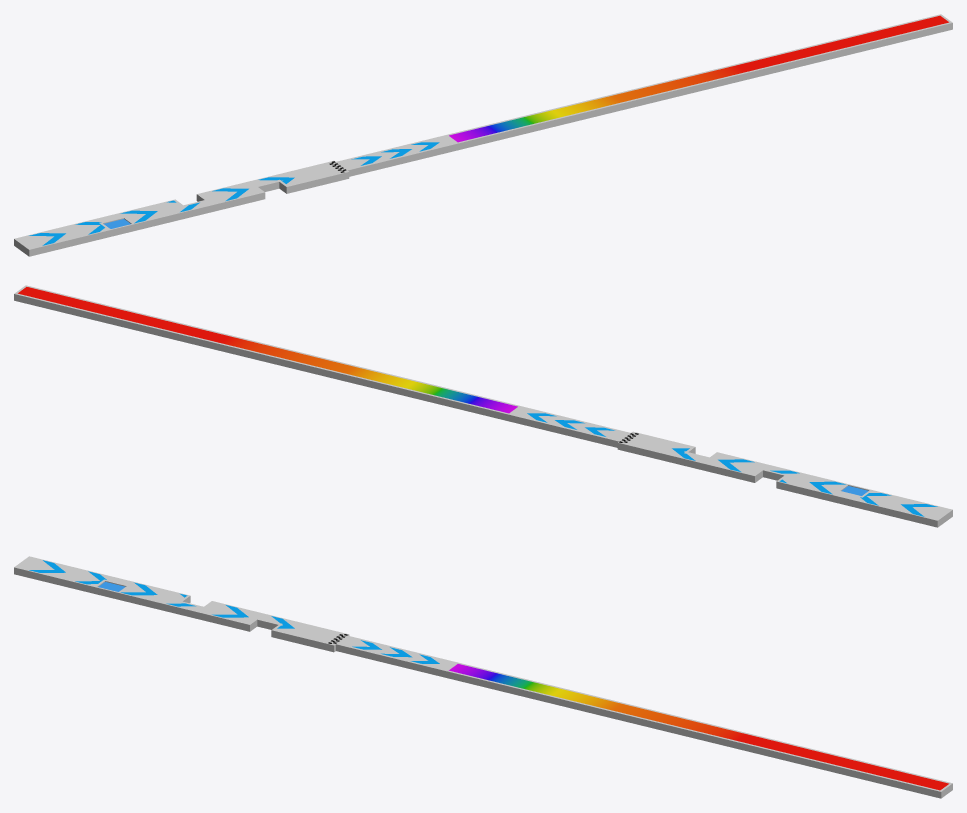
The model's file is bridgeone.fbx.
3 views of the same model, one above another, from view 1: azimuth 30°, elevation 25°; view 2: azimuth 150°, elevation 25°; view 3: azimuth 330°, elevation 25° (orthographic).
Visible parts, largest first — view 1: Cube; view 2: Cube; view 3: Cube.
Part boxes in pixels (x1,y1,x2,y2): Cube: [14, 14, 952, 256]; Cube: [14, 285, 952, 527]; Cube: [14, 556, 952, 798].
Bounding box in the file's own units: 14047 × 100 × 400.
Materials: 5 (1 with a texture image).
